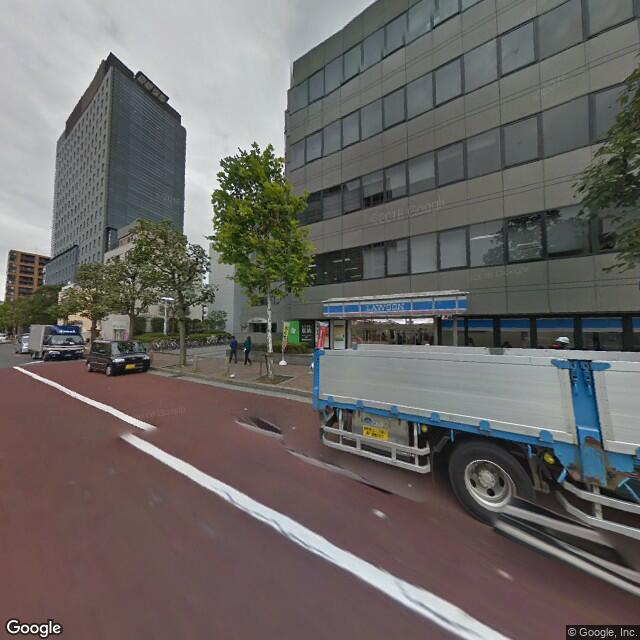lawson: (320, 289, 473, 319)
